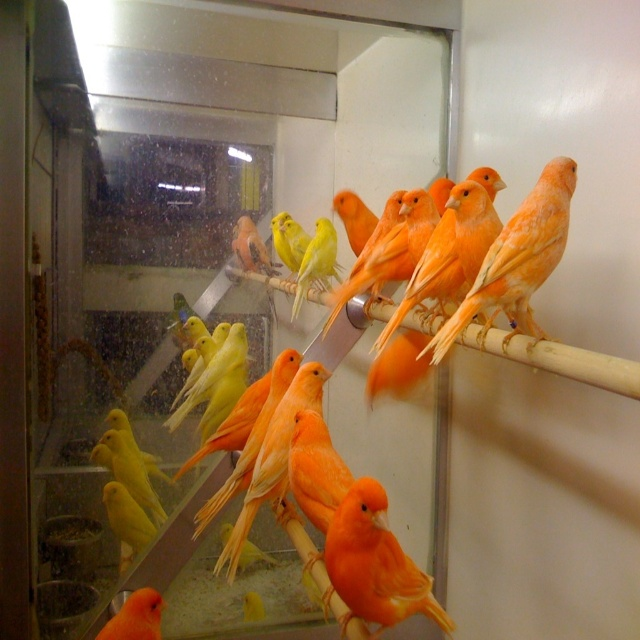Canary: (86, 153, 578, 639)
